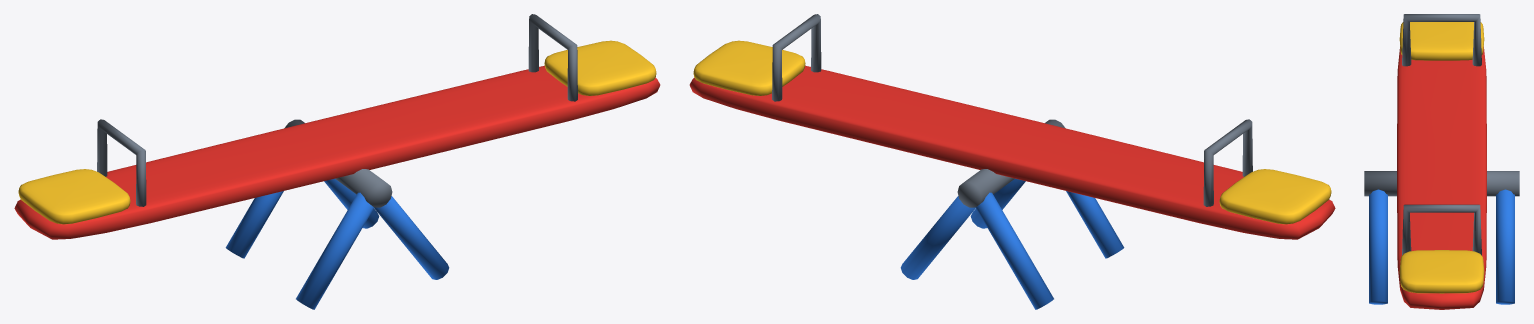
Rendered from seesaw.glb.
3 renders of one model, left to right at view 1: azimuth 30°, elevation 25°; view 2: azimuth 150°, elevation 25°; view 3: azimuth 270°, elevation 25°, orthographic. The views are drawn at different scales.
Parts seen in each view (by area): view 1: Plank, Stand; view 2: Plank, Stand; view 3: Plank, Stand.
Part boxes in pixels (x1=…): Plank: x1=14, y1=14, x2=660, y2=239; Stand: x1=225, y1=119, x2=449, y2=309; Plank: x1=689, y1=14, x2=1335, y2=239; Stand: x1=900, y1=119, x2=1124, y2=309; Plank: x1=1397, y1=14, x2=1486, y2=309; Stand: x1=1364, y1=171, x2=1519, y2=304.
Size of the model in its own units: 4.6 by 1.32 by 1.1.
